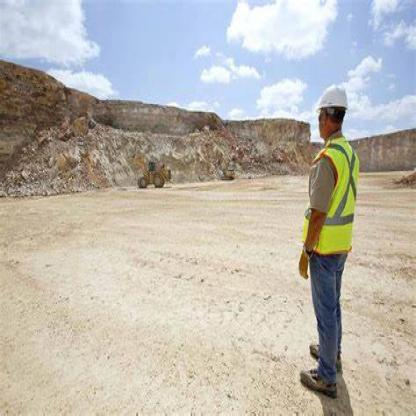person: (287, 64, 371, 406)
